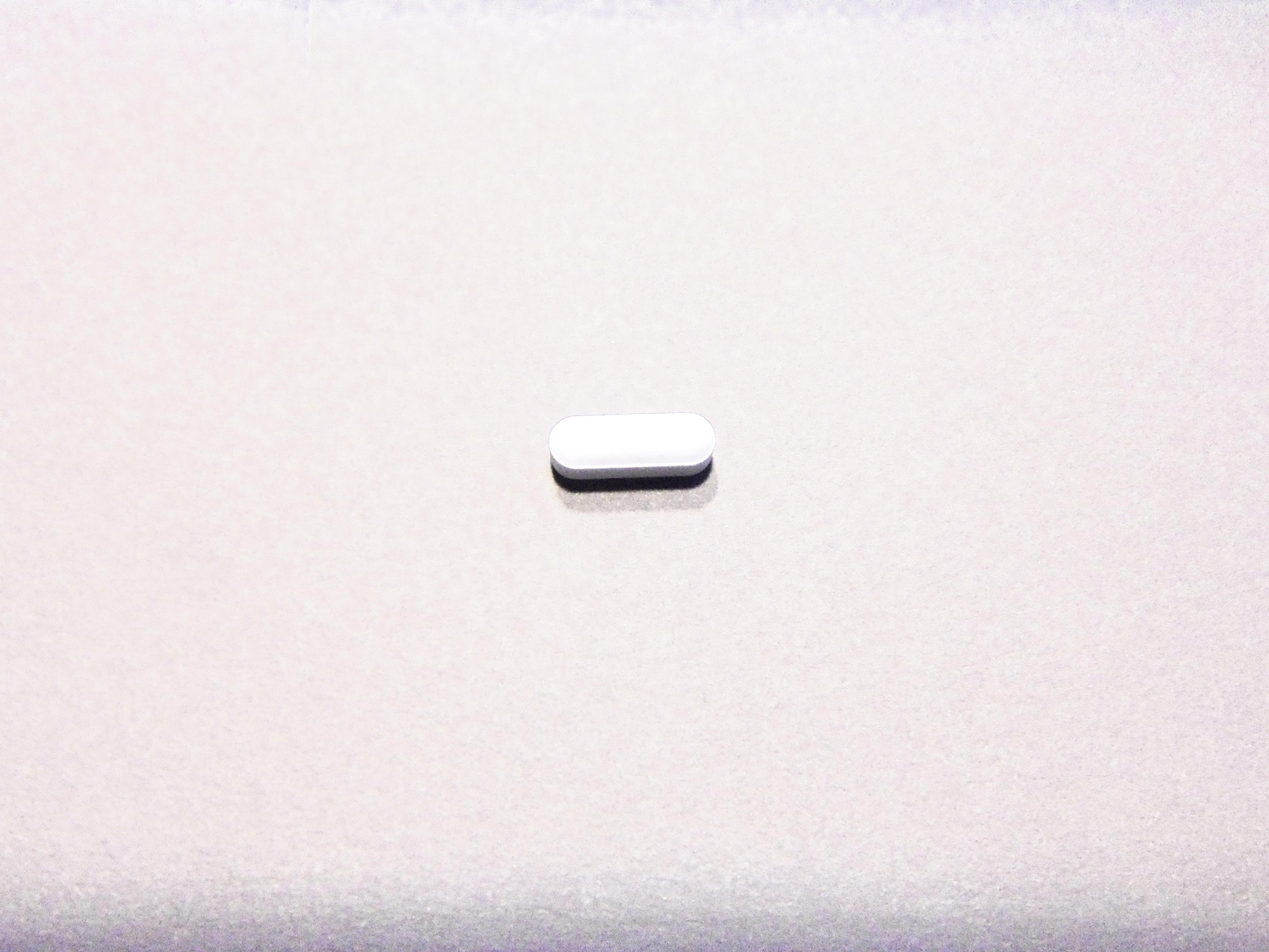Pill: (543, 406, 722, 496)
